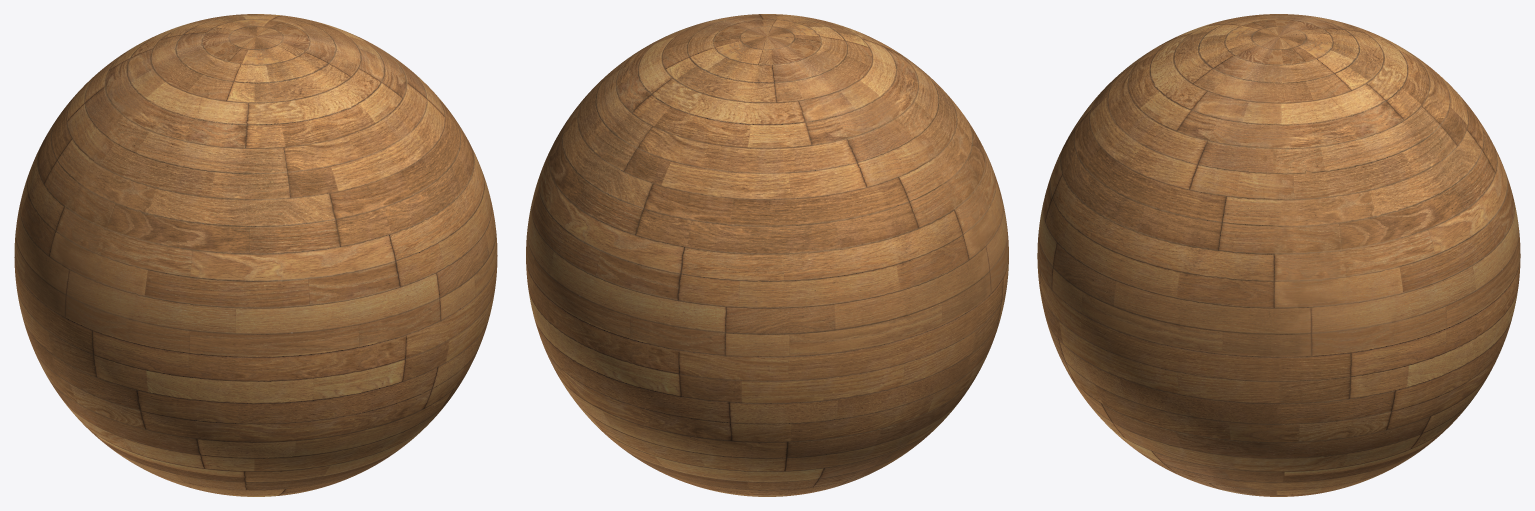
Rendered from wooden_floor_01_2k.gltf.
The picture shows the model from 3 angles, left to right: view 1: azimuth 30°, elevation 25°; view 2: azimuth 150°, elevation 25°; view 3: azimuth 270°, elevation 25°; orthographic projection.
Parts seen in each view (by area): view 1: sphere_gltf; view 2: sphere_gltf; view 3: sphere_gltf.
Part boxes in pixels (x1,y1,x2,y2): sphere_gltf: (14, 14, 497, 496); sphere_gltf: (526, 14, 1008, 496); sphere_gltf: (1037, 14, 1520, 496).
Size of the model in its own units: 1.99 by 1.99 by 1.99.
1 material, 1 textured.
